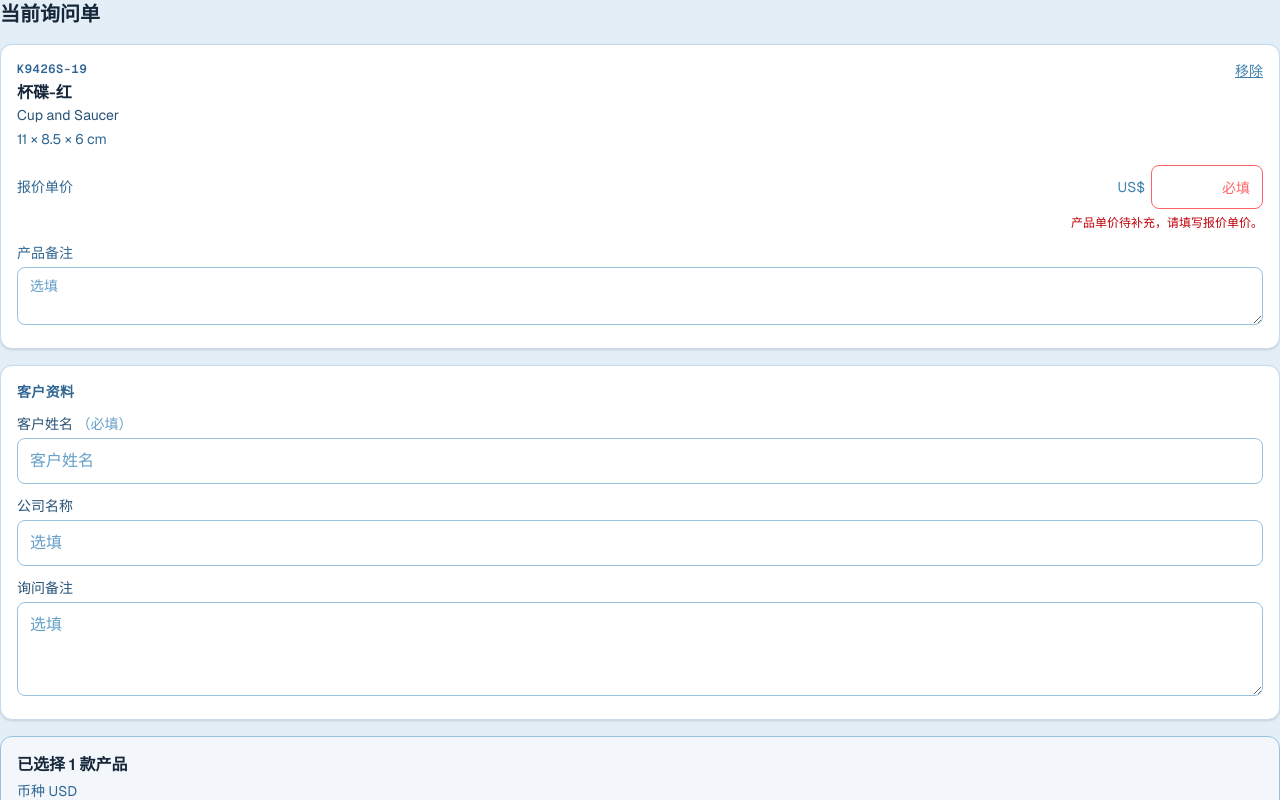
Test: inquiry editor before submission › blocks saving until every product has a valid quoted price
In the field labelled "客户姓名 （必填）": (640, 461) x1=17 y1=438 x2=1263 y2=484, type "Ada"
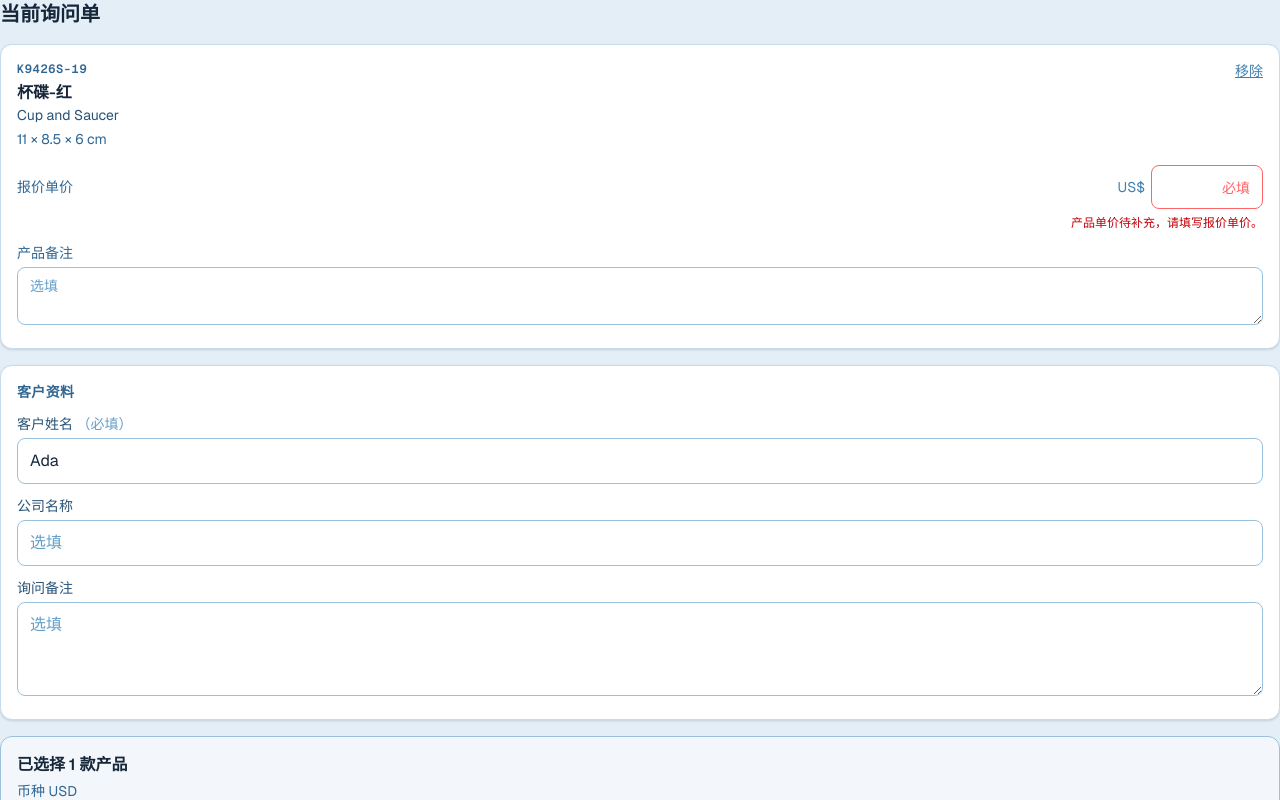
In the field labelled "报价单价": (1207, 187) x1=1151 y1=165 x2=1263 y2=209, type "0"
(page scrolled)
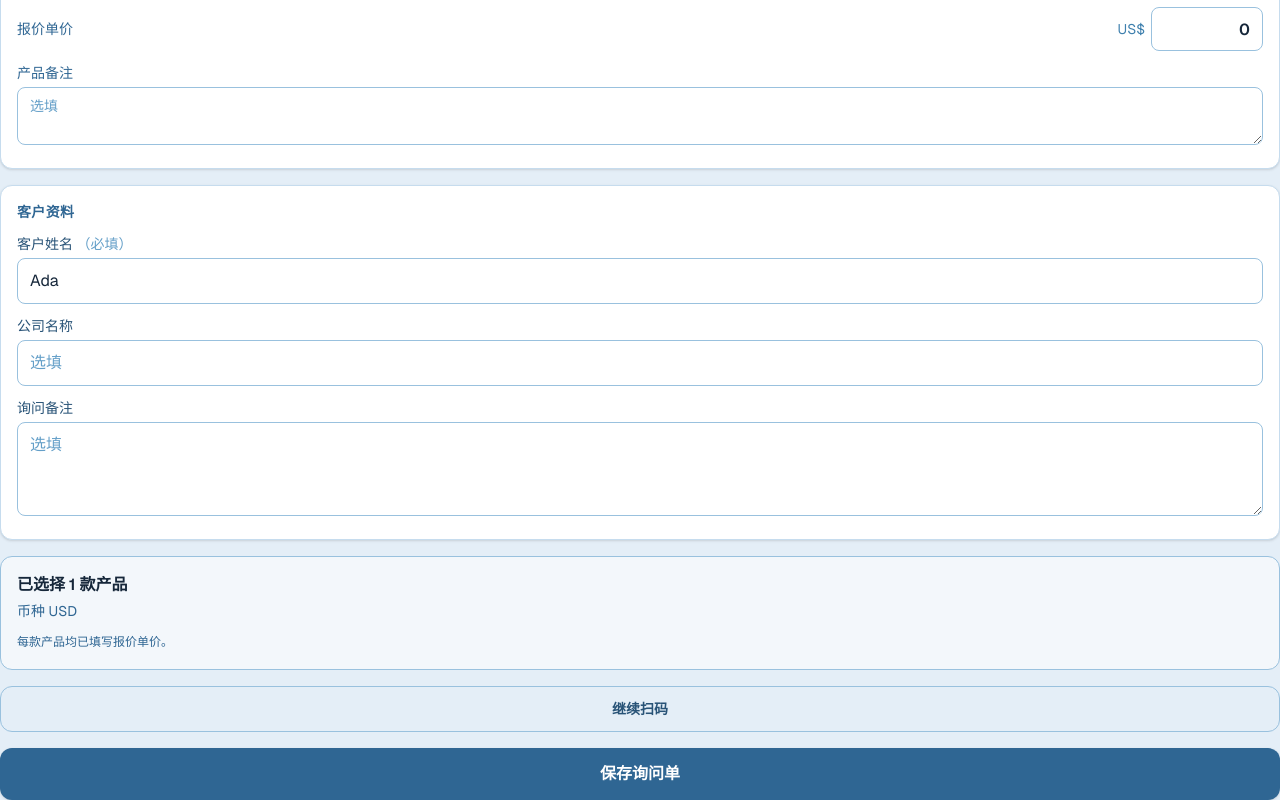
Result: the button "保存询问单" is enabled at x1=0 y1=748 x2=1279 y2=799
